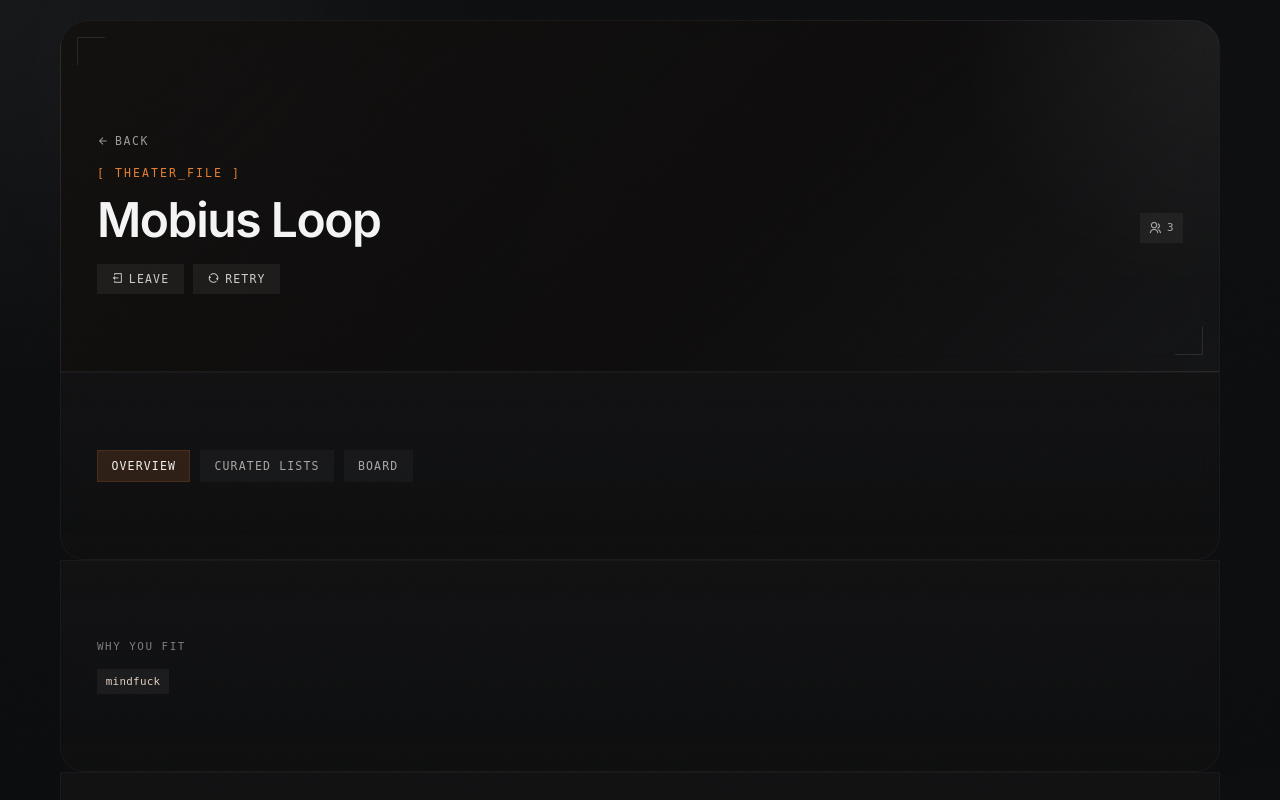
Test: TheaterDetailPage › updates an item note
Click the tab "Curated Lists".
click(267, 466)  # box [200,450,334,482]
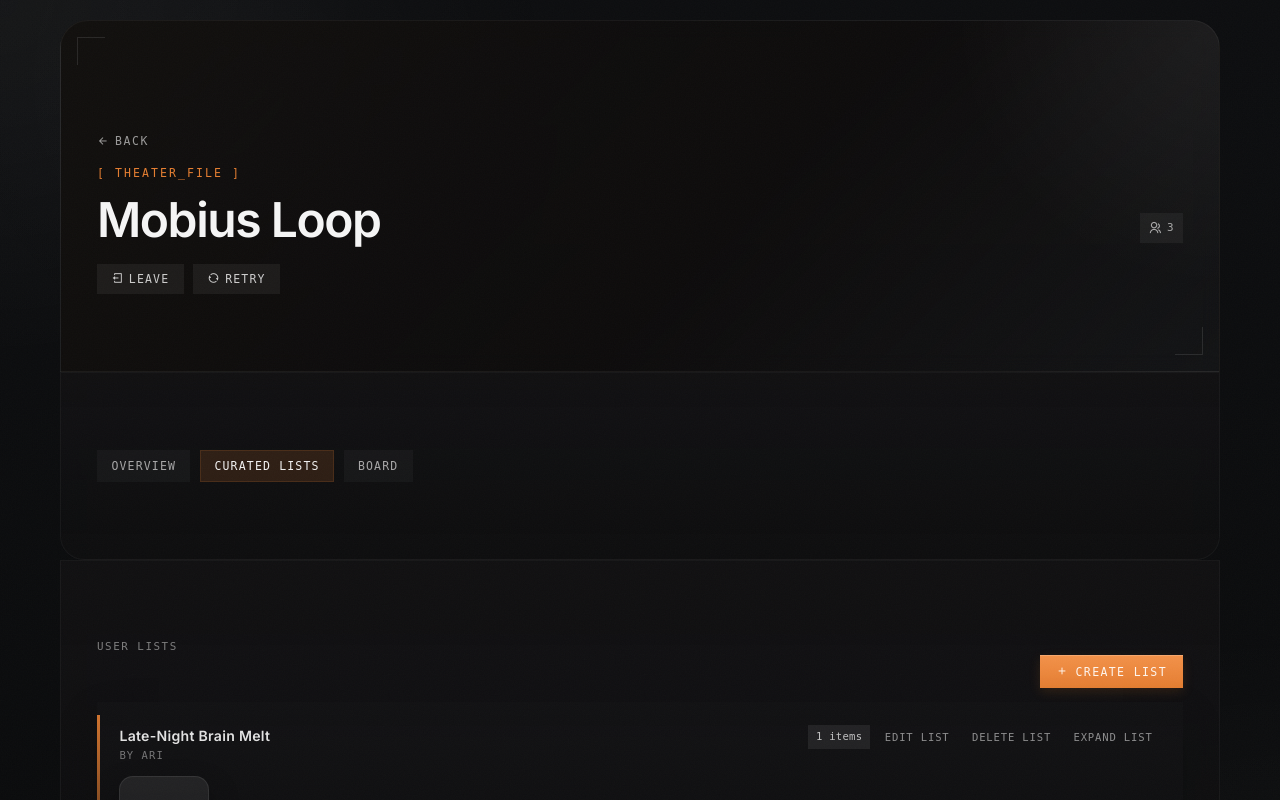
Result: the text "Late-Night Brain Melt" is shown at [119,725,270,747]
Click the button "Expand List".
click(1113, 737)  # box [1066,726,1161,747]
(page scrolled)
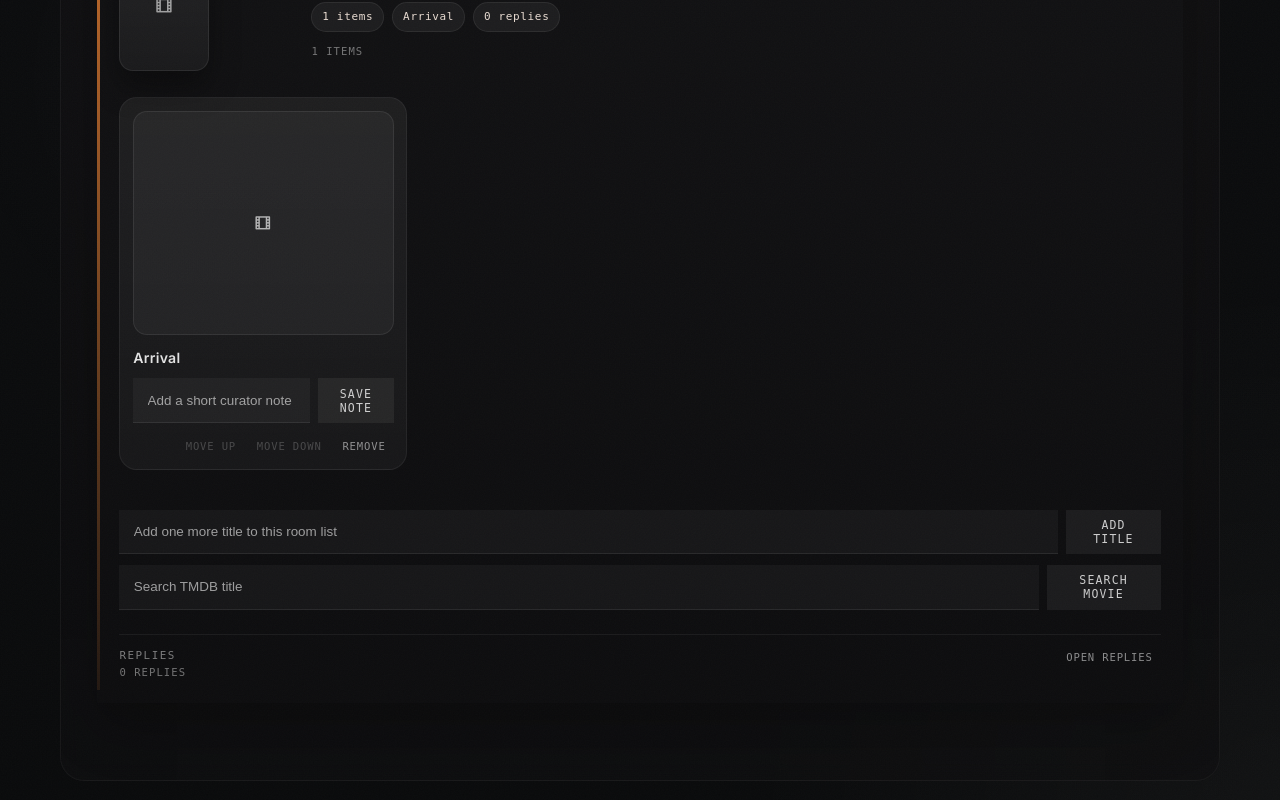
Type "Use this as the entry point." into the field with placeholder "Add a short curator note".
click(222, 400); type("Use this as the entry point.")  # box [133,378,310,423]
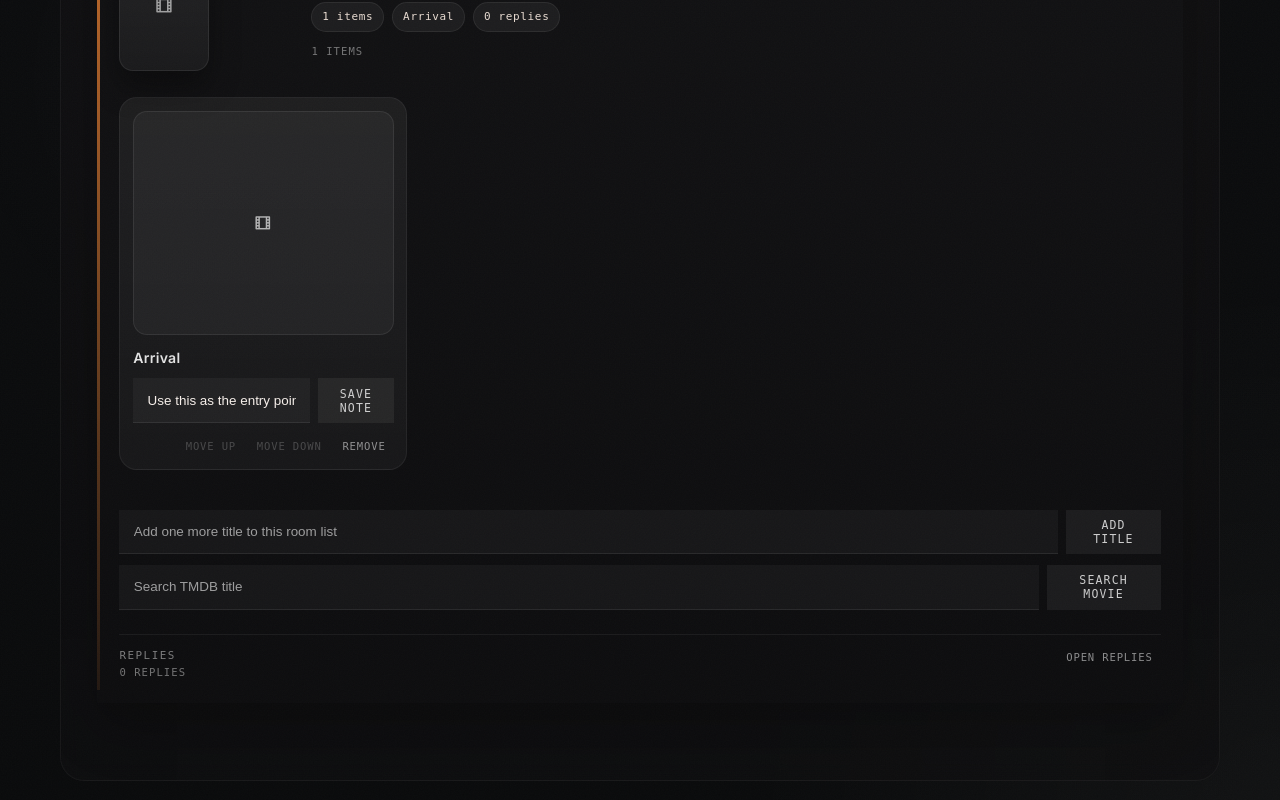
Click the button "Save Note".
click(356, 400)  # box [318,378,394,423]
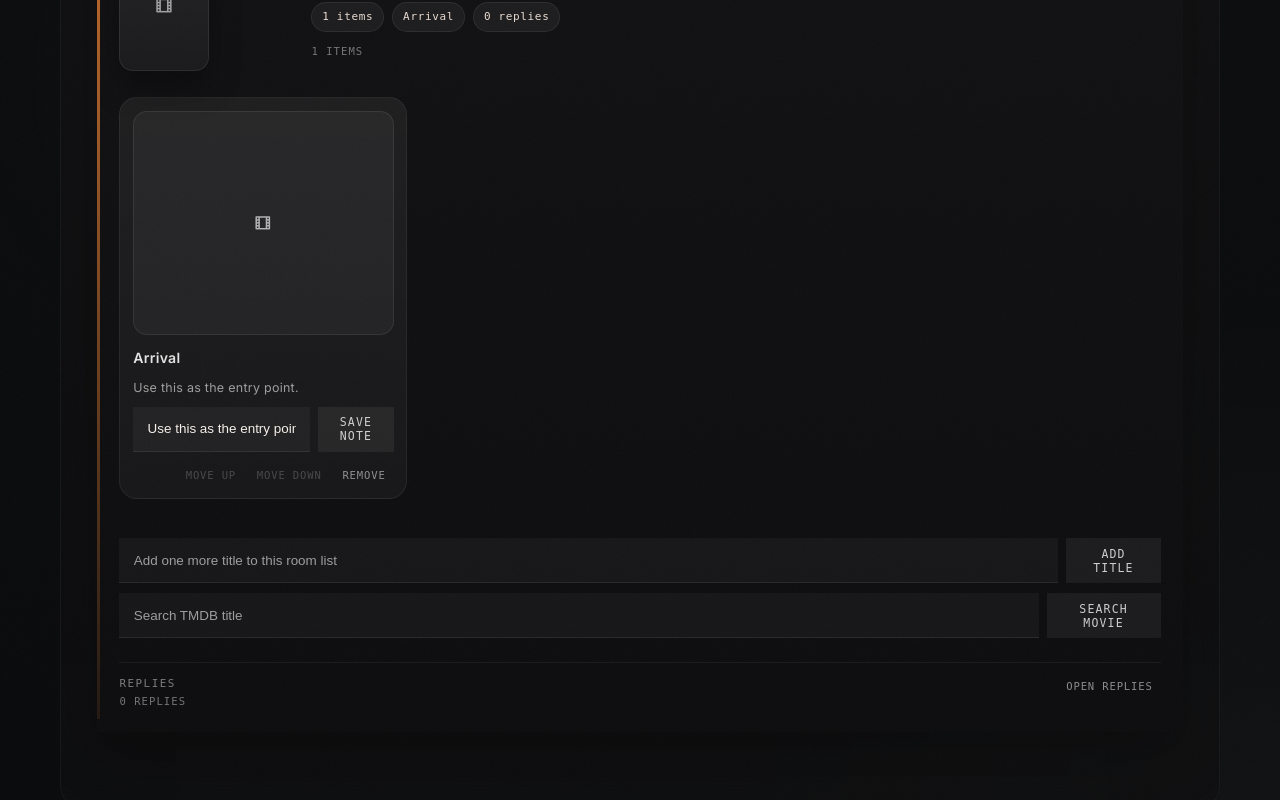
Result: the text "Use this as the entry point." is shown at [133,380,299,395]
